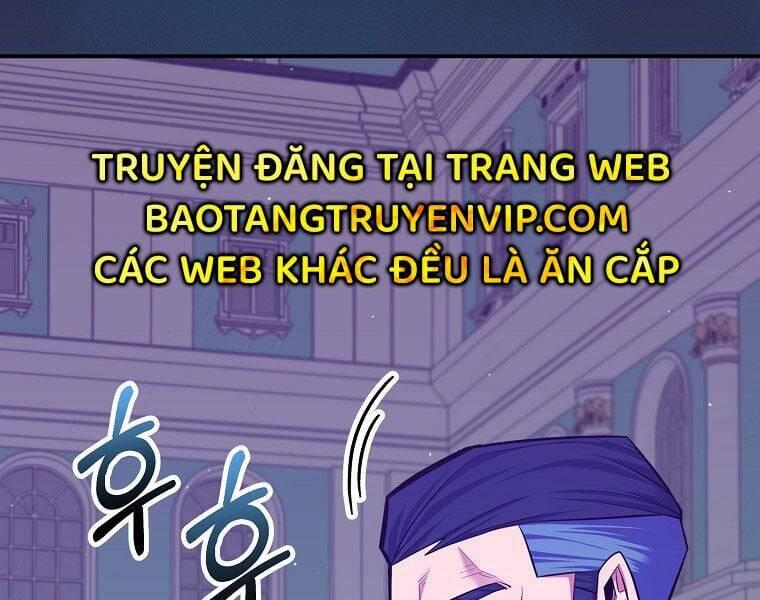quangcao: (89, 139, 683, 287)
